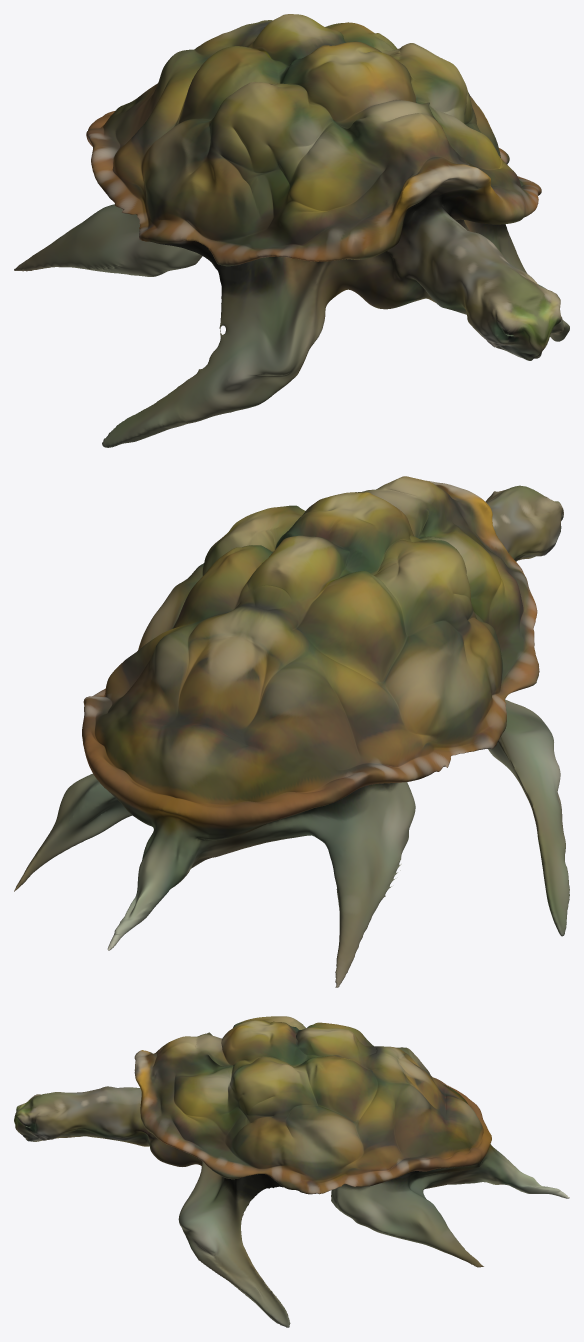
Rendered from exo1.glb.
The picture shows the model from 3 angles, top to bottom: view 1: azimuth 30°, elevation 25°; view 2: azimuth 150°, elevation 25°; view 3: azimuth 270°, elevation 25°; orthographic projection. The views are drawn at different scales.
Parts seen in each view (by area): view 1: Object_5; view 2: Object_5; view 3: Object_5.
Boxes of the visible parts, <box> form: Object_5: <box>14,14,569,447</box>; Object_5: <box>14,476,569,987</box>; Object_5: <box>14,1016,569,1327</box>.
Size of the model in its own units: 3.05 by 2.24 by 4.92.
